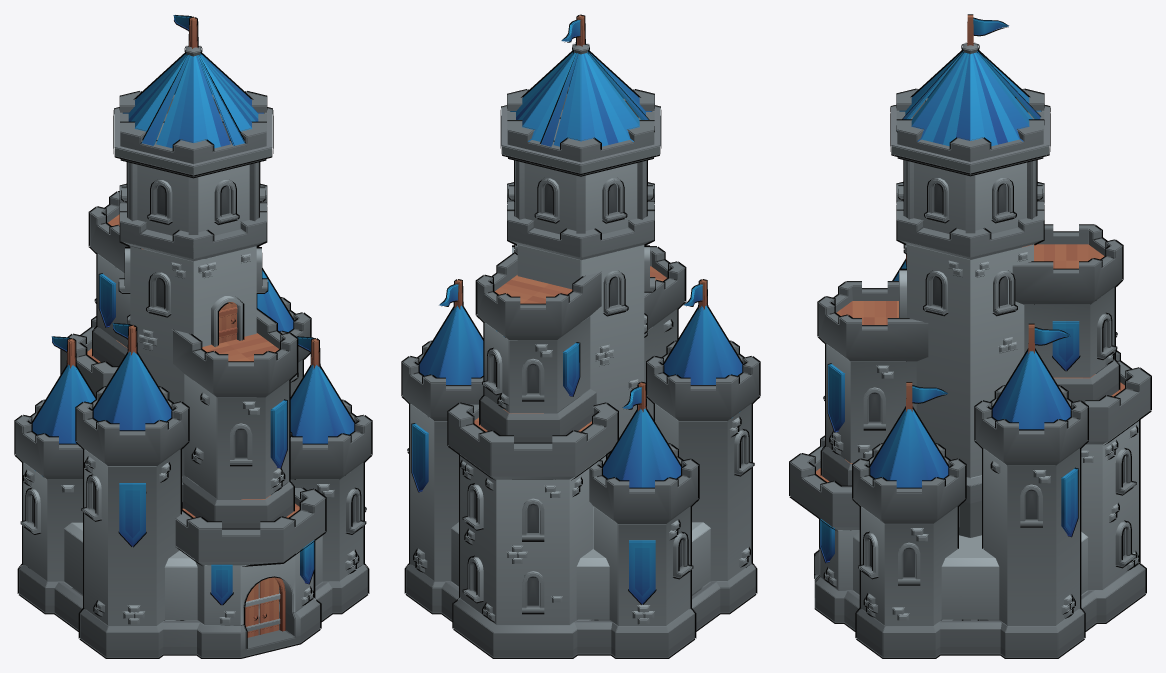
The picture shows the model from 3 angles, left to right: view 1: azimuth 30°, elevation 25°; view 2: azimuth 150°, elevation 25°; view 3: azimuth 270°, elevation 25°; orthographic projection.
Parts seen in each view (by area): view 1: building_castle_blue; view 2: building_castle_blue; view 3: building_castle_blue.
Boxes of the visible parts, x1=… form: building_castle_blue: x1=14, y1=15, x2=372, y2=658; building_castle_blue: x1=401, y1=14, x2=760, y2=658; building_castle_blue: x1=789, y1=14, x2=1151, y2=658.
Bounding box in the file's own units: 1.99 × 3.99 × 2.26.
2 materials, 1 textured.
